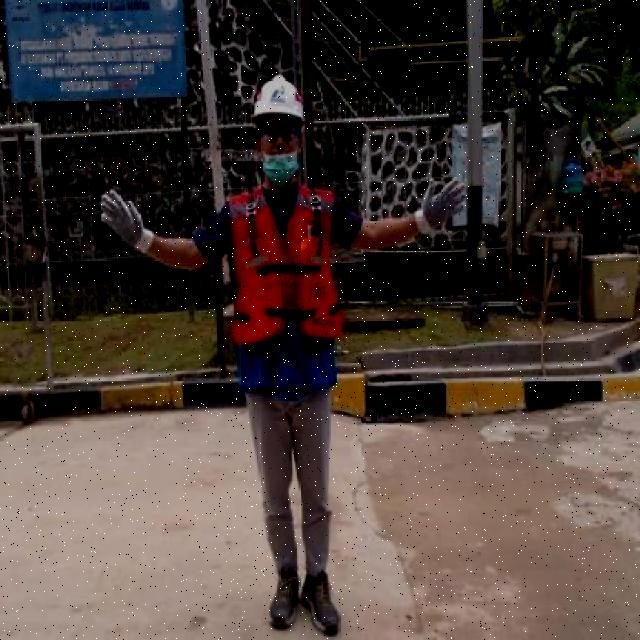Boots: (302, 569, 341, 637), (269, 566, 300, 632)
Gloves: (98, 188, 156, 256), (416, 176, 466, 239)
Helmet: (252, 73, 306, 122)
Mask: (230, 238, 344, 347), (260, 122, 298, 140)
